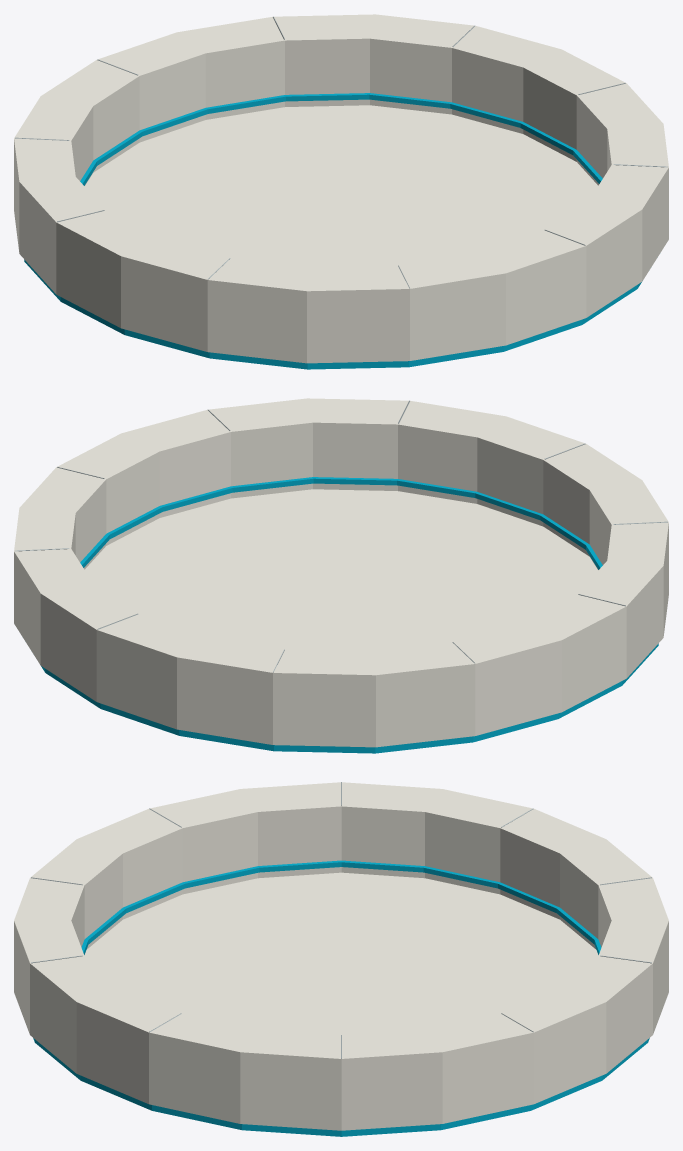
Rendered from fountain_basin.glb.
3 views of the same model, one above another, from view 1: azimuth 30°, elevation 25°; view 2: azimuth 150°, elevation 25°; view 3: azimuth 270°, elevation 25° (orthographic).
Parts seen in each view (by area): view 1: Aero_fountain_basin; view 2: Aero_fountain_basin; view 3: Aero_fountain_basin.
Boxes of the visible parts, x1,y1,x2,y2 form: Aero_fountain_basin: (14,14,668,369); Aero_fountain_basin: (14,398,668,753); Aero_fountain_basin: (14,782,668,1136).
Bounding box in the file's own units: 3.2 × 0.46 × 3.2.
Materials: 3 (3 with a texture image).
